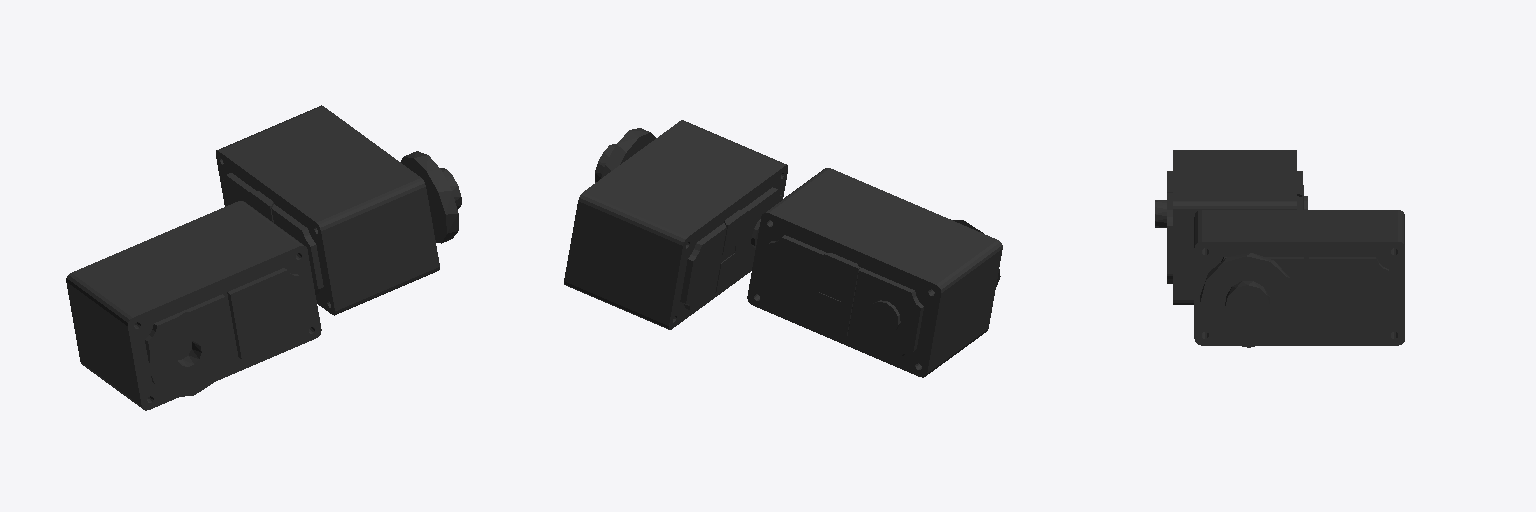
File: roki_Robot_Football_Player_SKS_2501_Servov12_10_v1_1_mesh_2.obj
The picture shows the model from 3 angles: view 1: azimuth 30°, elevation 25°; view 2: azimuth 150°, elevation 25°; view 3: azimuth 270°, elevation 25°; orthographic projection.
Size of the model in its own units: 0.0882 by 0.0353 by 0.0527.